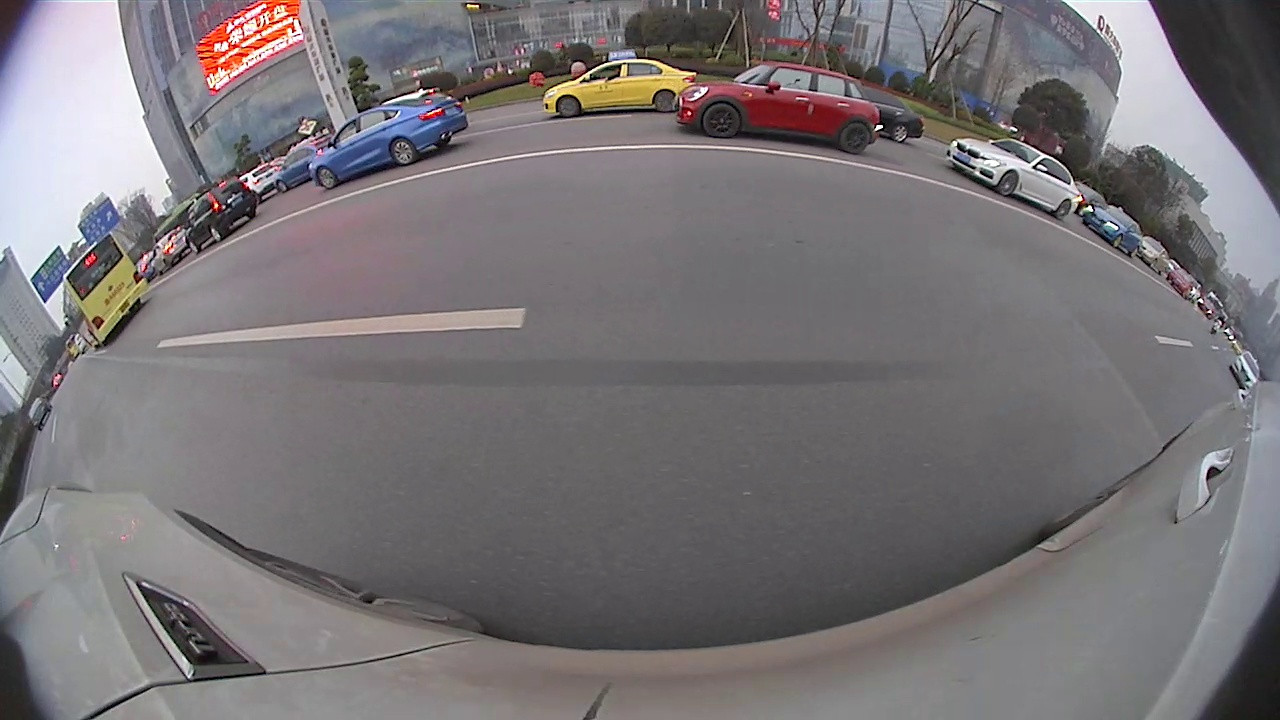bus: (61, 231, 154, 347)
car: (675, 58, 878, 154), (310, 99, 464, 193), (538, 46, 700, 120), (947, 135, 1084, 222), (183, 174, 258, 256), (853, 84, 927, 144), (1086, 201, 1144, 258), (376, 87, 447, 119)
front: (702, 101, 743, 141), (995, 170, 1021, 197), (554, 95, 582, 120), (315, 165, 340, 189), (186, 238, 202, 255), (276, 180, 288, 194)
rear: (836, 120, 869, 155), (390, 137, 422, 166), (650, 90, 681, 115), (889, 122, 912, 143), (1053, 199, 1073, 222), (209, 227, 227, 243), (435, 136, 453, 151), (245, 207, 257, 221)
